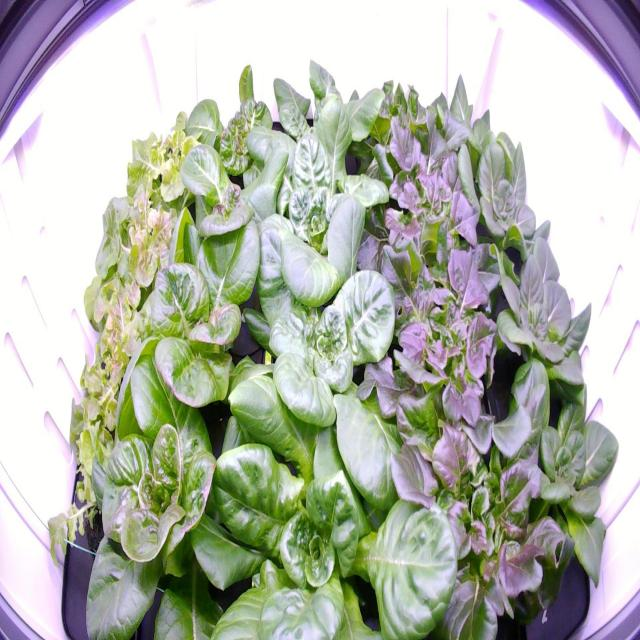Ready: (184, 333, 461, 637), (66, 344, 270, 638), (236, 180, 400, 439), (107, 222, 286, 452), (160, 126, 304, 320), (250, 94, 397, 281), (269, 44, 392, 186), (180, 54, 294, 198)
young: (482, 346, 625, 604), (484, 228, 604, 408), (454, 117, 554, 262), (421, 63, 504, 192)
